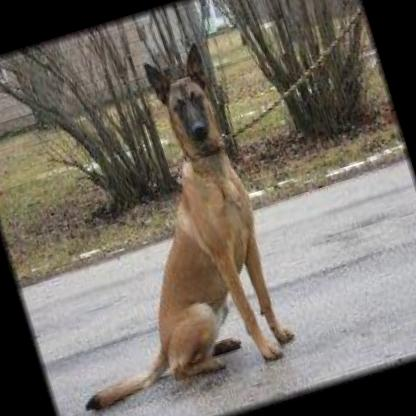malinois: (0, 37, 303, 416)
